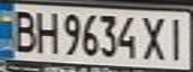3: (96, 11, 121, 58)
4: (115, 12, 142, 60)
6: (78, 11, 100, 57)
9: (57, 10, 84, 56)
B: (6, 7, 39, 53)
H: (30, 7, 60, 54)
I: (163, 14, 193, 62)
X: (139, 12, 172, 62)
